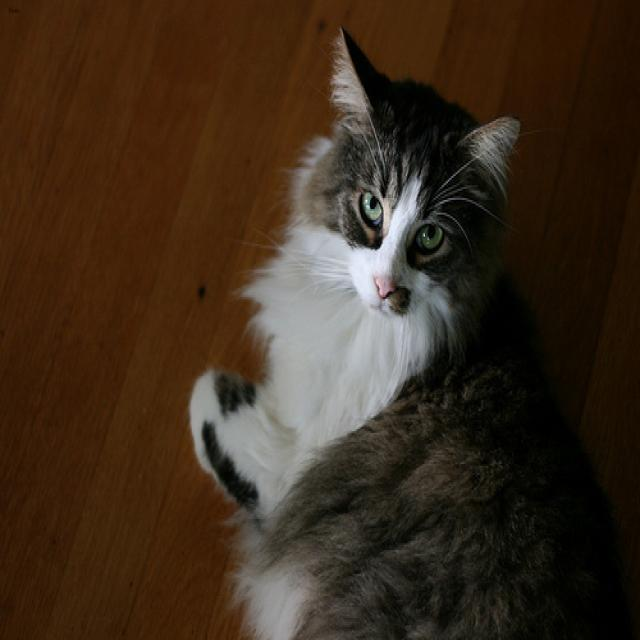Maine_Coon: (299, 12, 528, 338)
